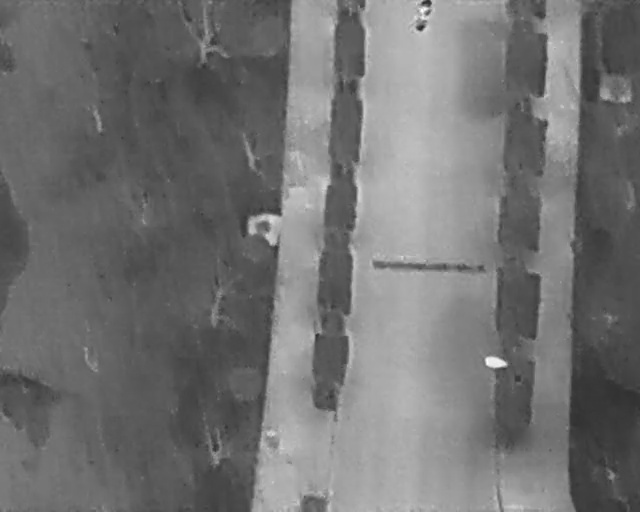Bicycle: (410, 0, 434, 34)
